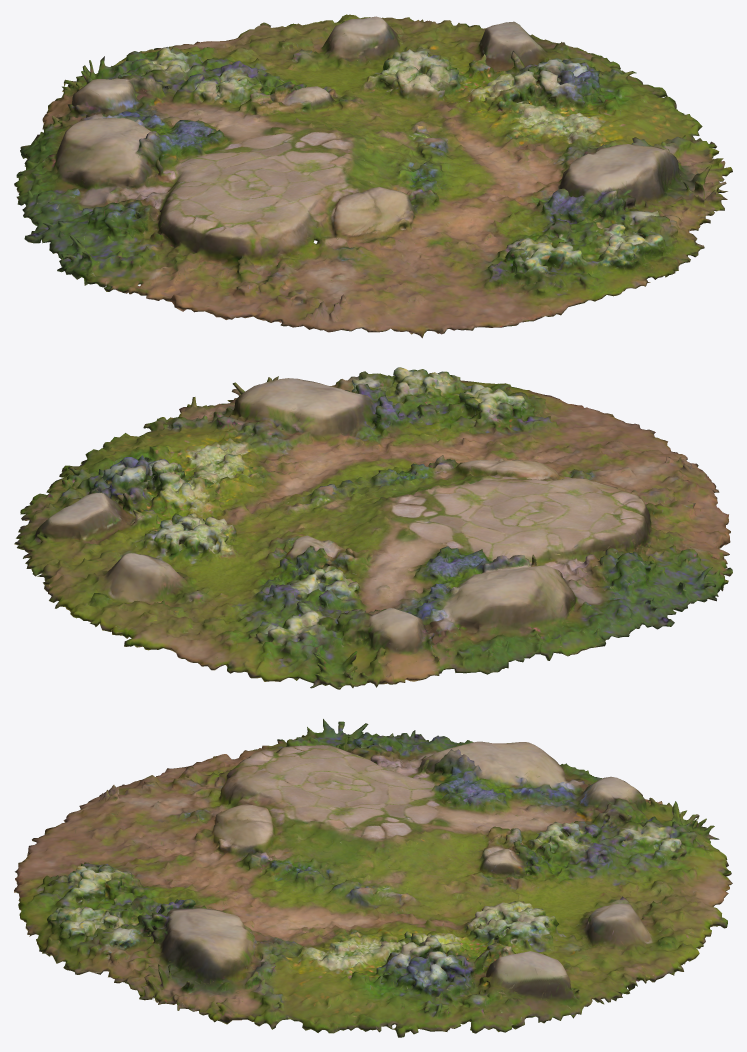
Rendered from Meshy_AI_Path_of_Wildflowers_0319011115_texture.glb.
The picture shows the model from 3 angles, top to bottom: view 1: azimuth 30°, elevation 25°; view 2: azimuth 150°, elevation 25°; view 3: azimuth 270°, elevation 25°; orthographic projection. The views are drawn at different scales.
Bounding box in the file's own units: 1.9 × 0.1755 × 1.91.
1 material, 1 textured.
